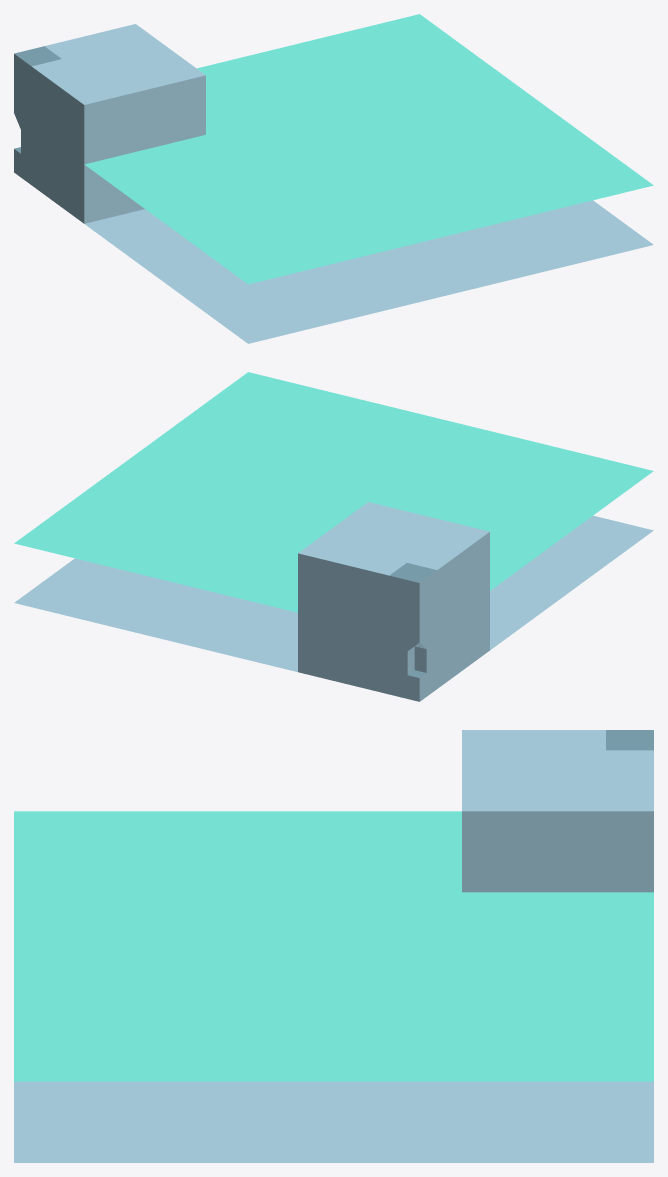
File: fountainCornerInnerSquare.fbx
3 views of the same model, one above another, from view 1: azimuth 30°, elevation 25°; view 2: azimuth 150°, elevation 25°; view 3: azimuth 270°, elevation 25° (orthographic). The views are drawn at different scales.
Visible parts, largest first — view 1: fountainCornerInnerSquare; view 2: fountainCornerInnerSquare; view 3: fountainCornerInnerSquare.
Part boxes in pixels (x1,y1,x2,y2): fountainCornerInnerSquare: [14, 14, 653, 343]; fountainCornerInnerSquare: [14, 372, 653, 701]; fountainCornerInnerSquare: [14, 730, 653, 1162].
Size of the model in its own units: 10 by 2.8 by 10.
